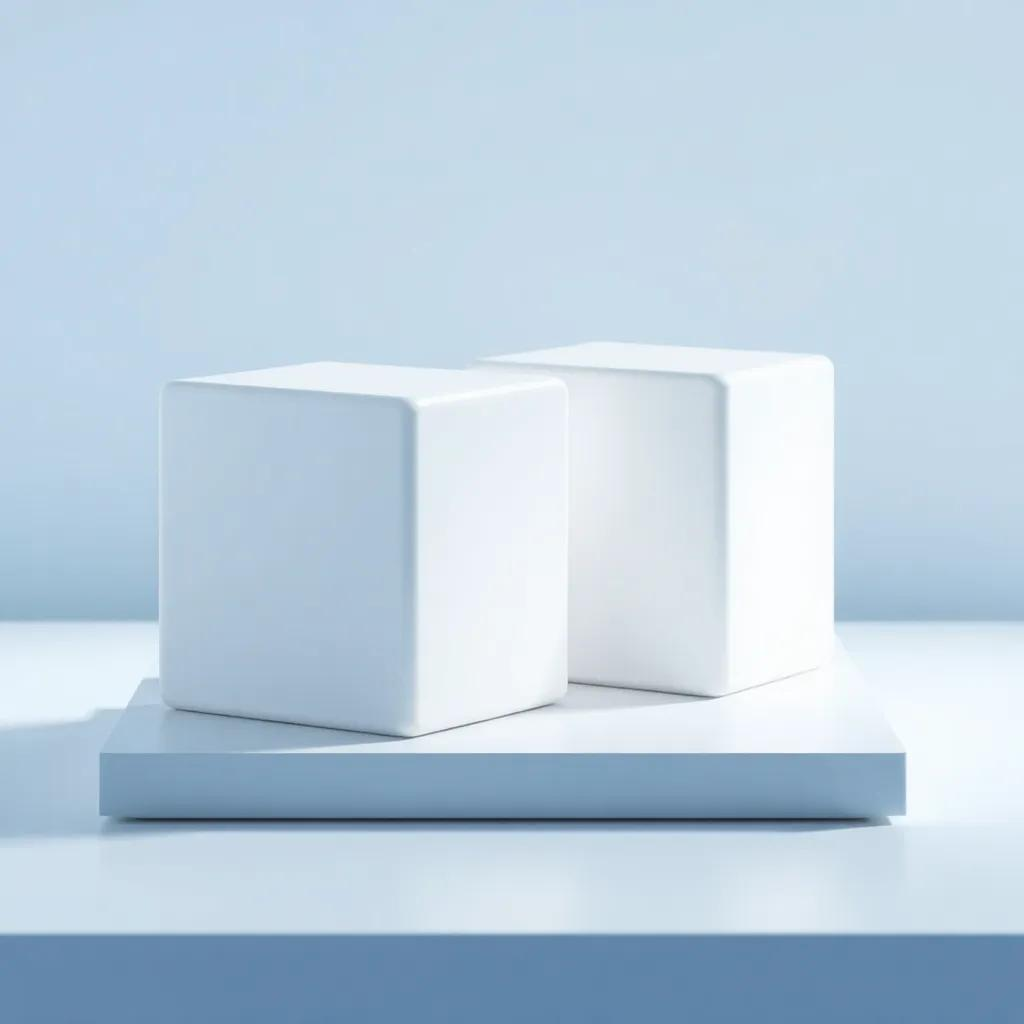cube: (156, 359, 570, 738), (472, 339, 836, 698)
